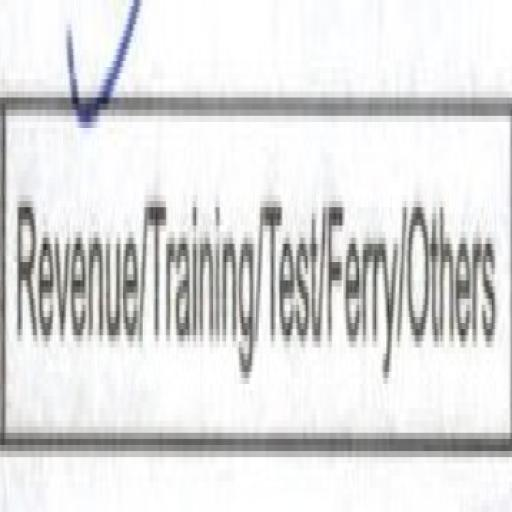check: (1, 9, 139, 464)
